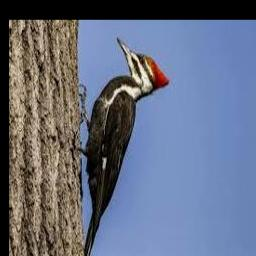Woodpecker: (78, 36, 170, 256)
